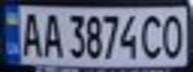3: (63, 11, 84, 60)
4: (118, 11, 142, 60)
7: (100, 11, 121, 60)
8: (84, 11, 103, 60)
A: (15, 9, 45, 58), (39, 9, 63, 58)
C: (139, 11, 169, 61)
O: (160, 10, 190, 60)
